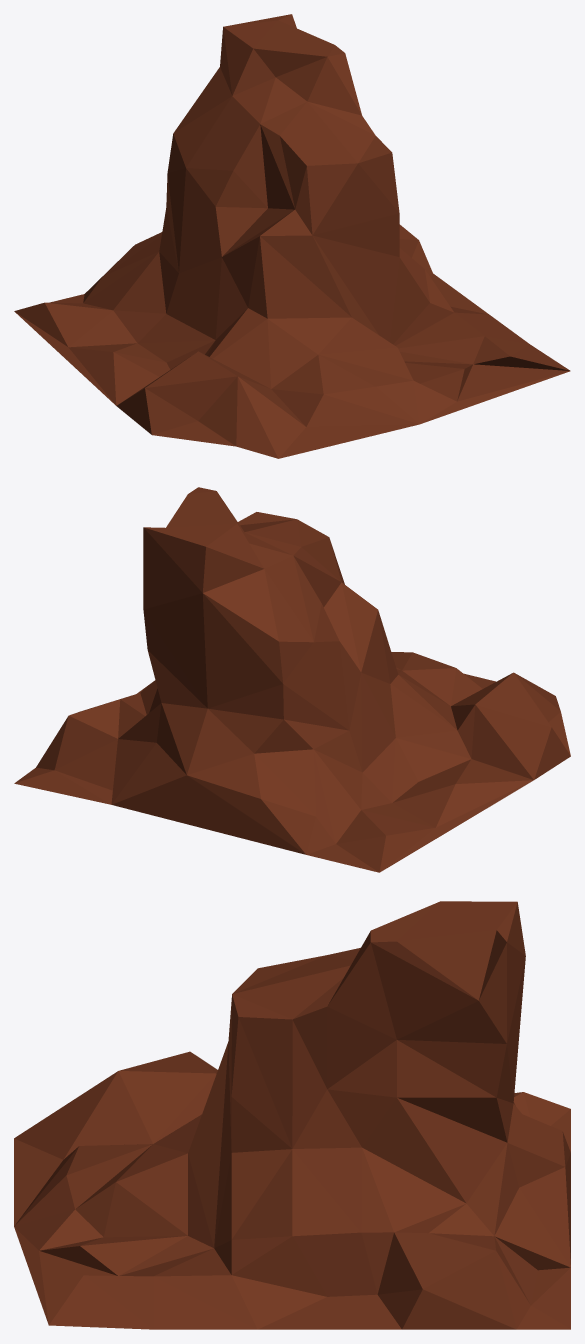
Rendered from 06 Mountain.FBX.glb.
The picture shows the model from 3 angles, top to bottom: view 1: azimuth 30°, elevation 25°; view 2: azimuth 150°, elevation 25°; view 3: azimuth 270°, elevation 25°; orthographic projection. The views are drawn at different scales.
Parts seen in each view (by area): view 1: Mountain_1.2; view 2: Mountain_1.2; view 3: Mountain_1.2.
Boxes of the visible parts, x1,y1,x2,y2 form: Mountain_1.2: (14, 14, 570, 458); Mountain_1.2: (14, 487, 570, 872); Mountain_1.2: (14, 901, 570, 1329).
Bounding box in the file's own units: 5152 × 3328 × 5152.
